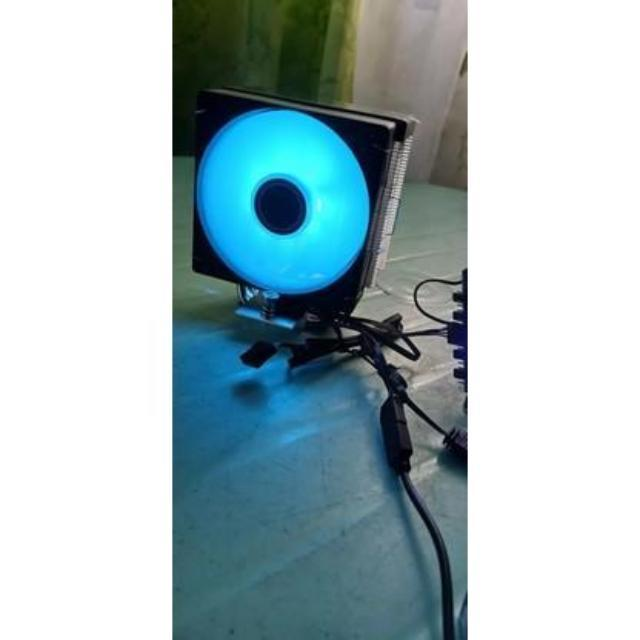CPU_Fan: (190, 82, 415, 342)
